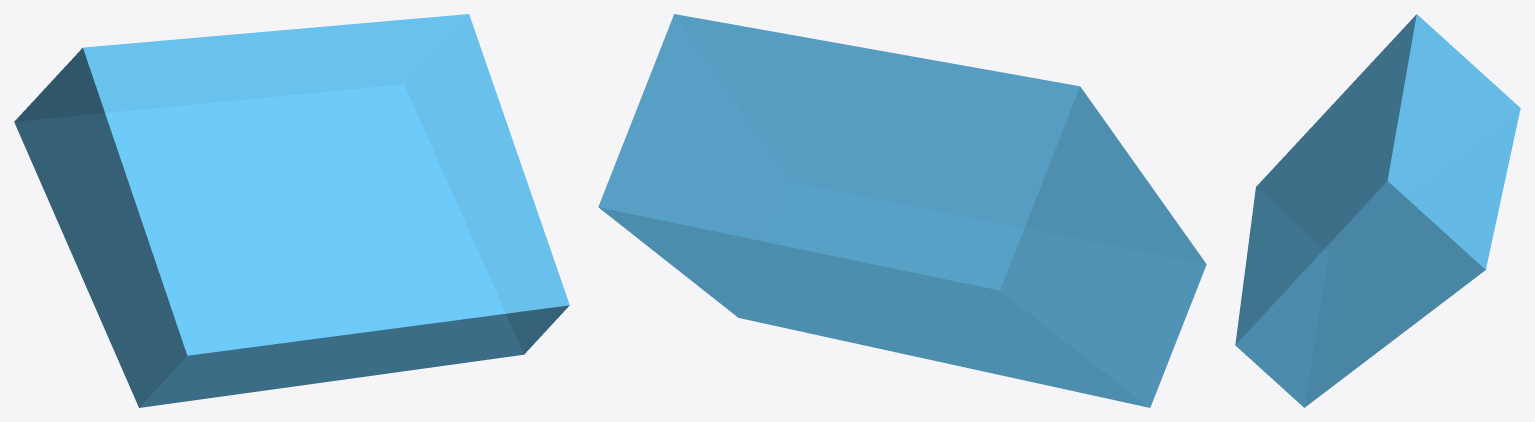
The model's file is Event_421364160_HErechit_56.fbx.
3 renders of one model, left to right at view 1: azimuth 30°, elevation 25°; view 2: azimuth 150°, elevation 25°; view 3: azimuth 270°, elevation 25°, orthographic. The views are drawn at different scales.
Visible parts, largest first — view 1: Model; view 2: Model; view 3: Model.
Boxes of the visible parts, bbox=[...] form: Model: bbox=[14, 14, 569, 407]; Model: bbox=[598, 14, 1206, 407]; Model: bbox=[1235, 14, 1520, 407].
Bounding box in the file's own units: 0.6351 × 0.5631 × 0.5631.
